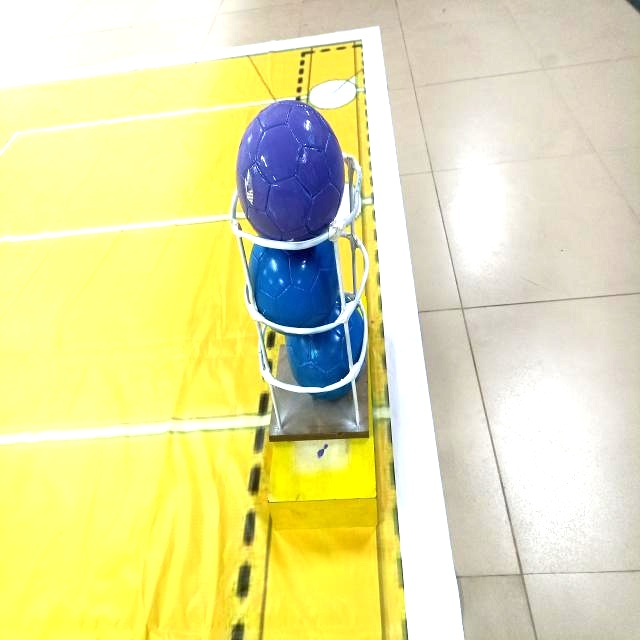blue_ball: (239, 234, 348, 328), (281, 297, 370, 396)
purple_ball: (231, 94, 347, 246)
silo: (215, 130, 392, 484)
